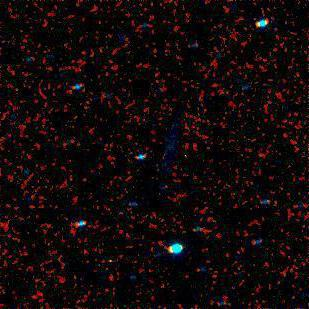star: (176, 144, 206, 174)
